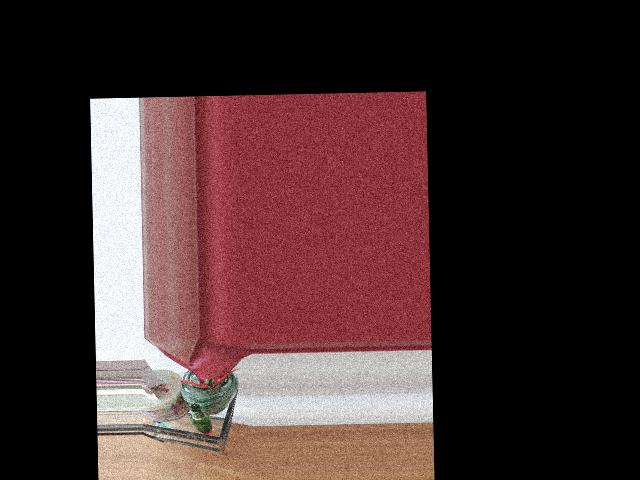beer: (190, 403, 213, 433)
